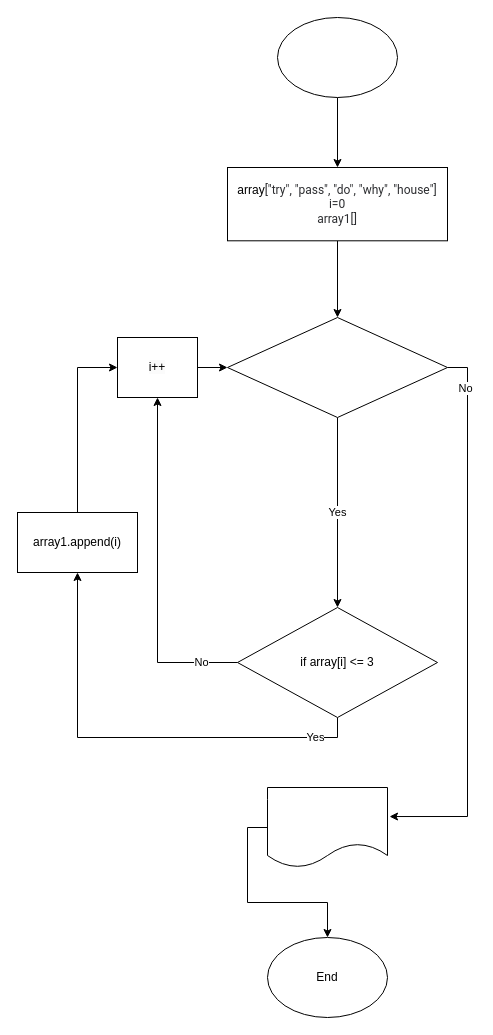
The diagram is 493 pixels wide and 1035 high, and some of its shapes have lost their labels. The shapes that lost their labels are listed below. From the top down, each one's centre as x and y in pixels, then its label:
the point at 337,57: Start
the point at 337,367: if i != len(array)
the point at 327,827: print(array1)
